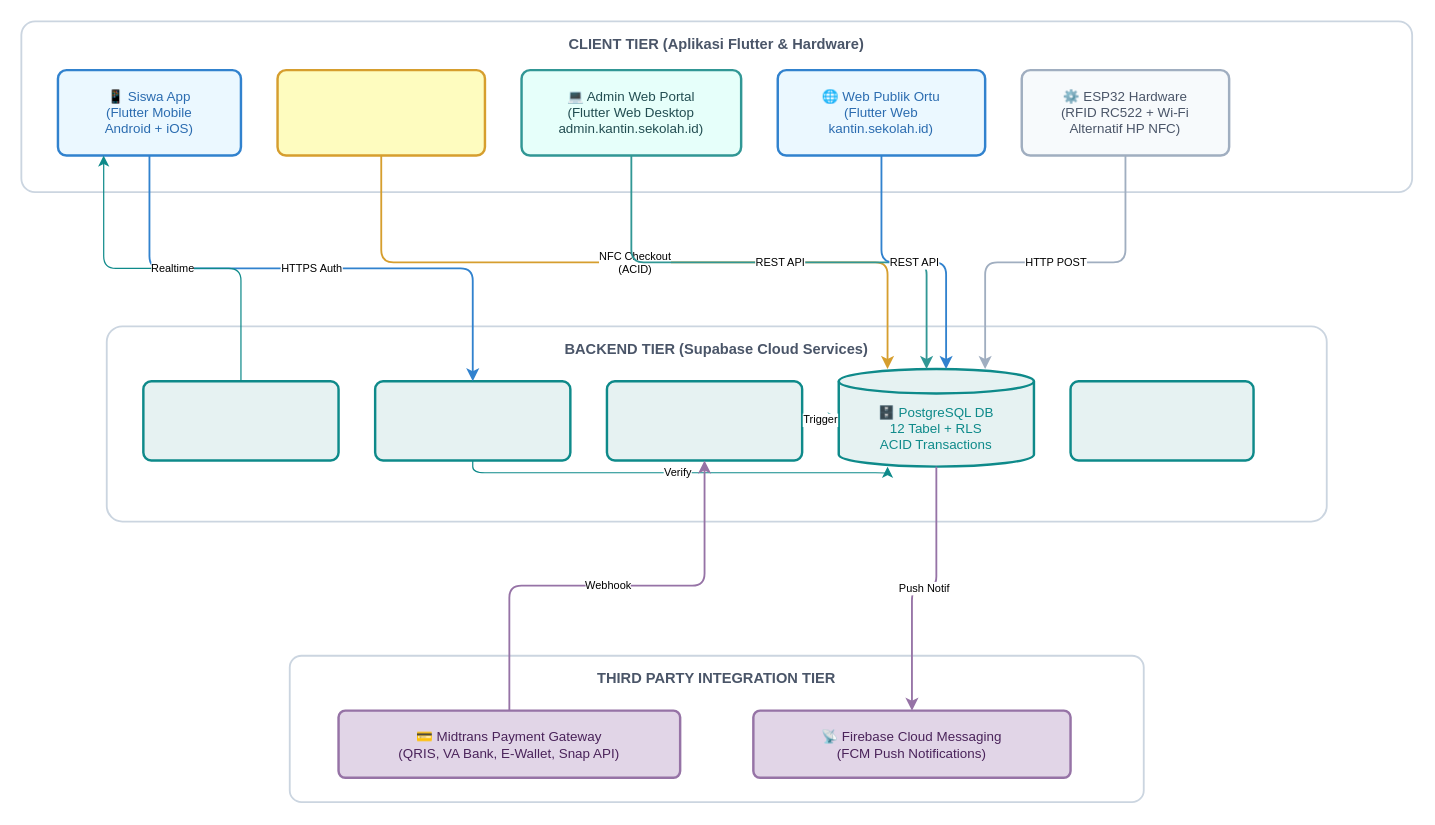
Image size: 1435x825. Some labels were removed from this diagram. Here are the shapes that lost their labels. From the top down, the box of each, then its label:
(276, 68, 486, 156): 🛒 Petugas POS App (Flutter Mobile + NFC nfc_manager)
(142, 379, 339, 461): 🔔 Realtime Channel (Live Saldo Update)
(373, 379, 571, 461): 🔑 Supabase Auth (Email & Password Multi-Role)
(605, 379, 803, 461): ⚡ Edge Functions (Midtrans Webhook & Snap Token)
(1069, 379, 1254, 461): 📁 Storage (Foto, Bukti Bayar)
